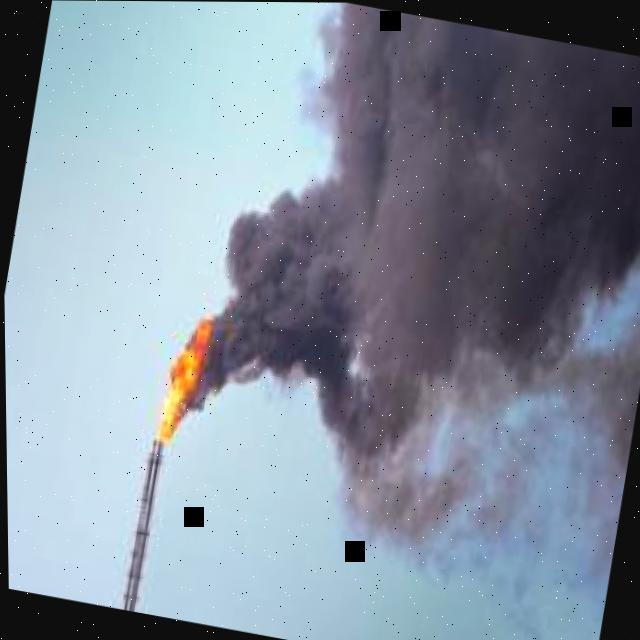fire: (156, 319, 211, 443)
smoke: (187, 2, 640, 579)
